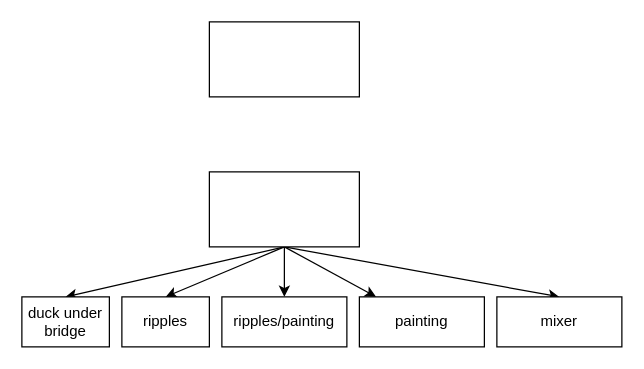
Image size: 644x369. Some labels were removed from this diagram. The centre of each missing label's shape, as x and y in pixels:
elements: the point at 283,209
landing page: the point at 283,59
